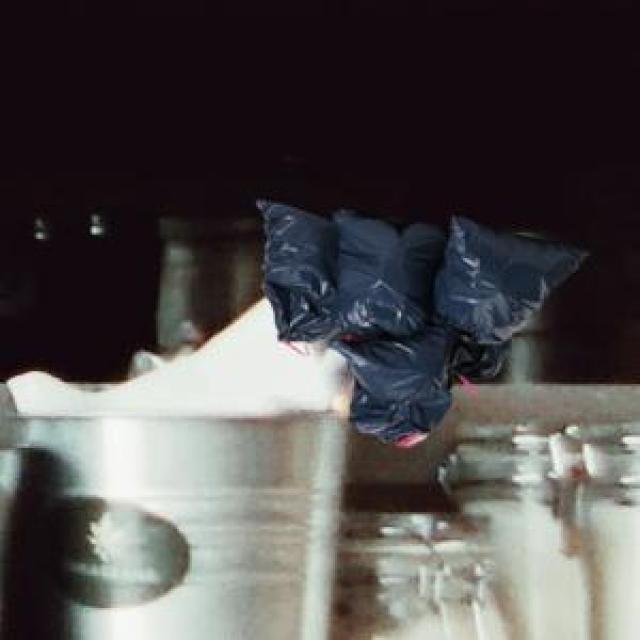miscellaneous trash: (252, 196, 587, 442)
